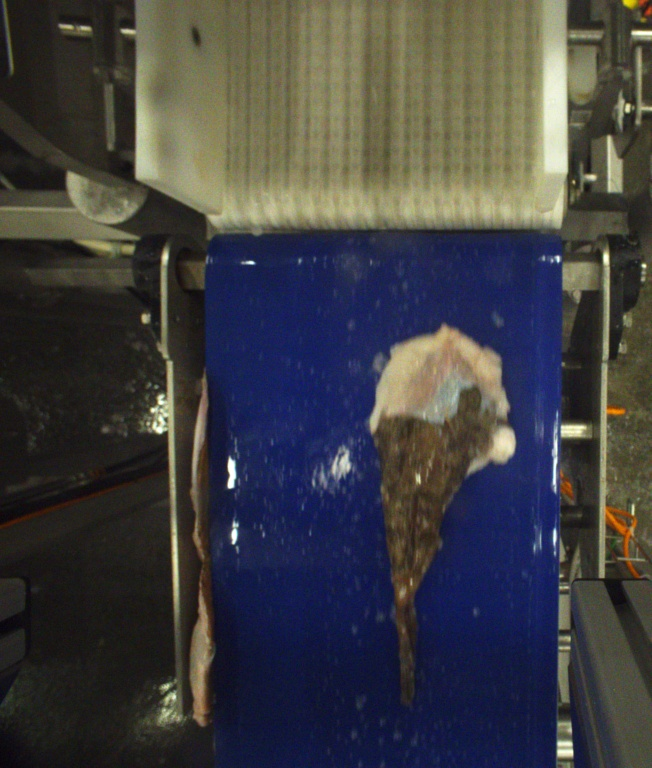ANF: (368, 325, 511, 708)
